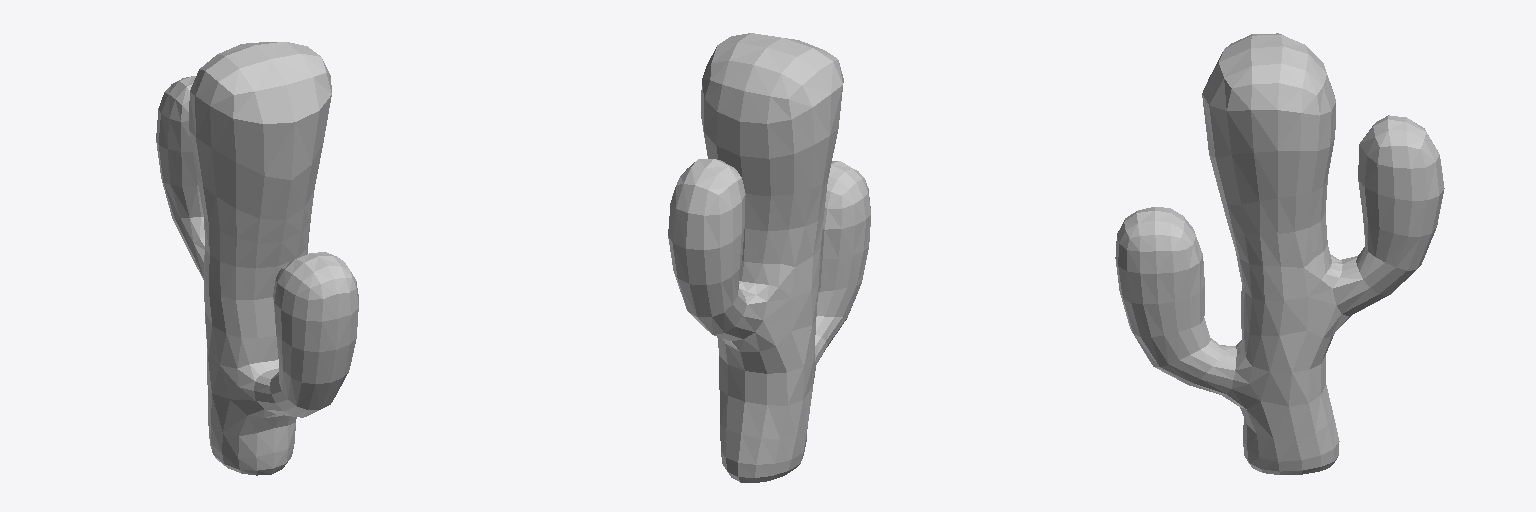
Rendered from cactus.obj.
3 views of the same model, side by side, from view 1: azimuth 30°, elevation 25°; view 2: azimuth 150°, elevation 25°; view 3: azimuth 270°, elevation 25° (orthographic).
Visible parts, largest first — view 1: cactus4; view 2: cactus4; view 3: cactus4.
Boxes of the visible parts, x1=… form: cactus4: x1=156, y1=42, x2=358, y2=475; cactus4: x1=668, y1=33, x2=870, y2=482; cactus4: x1=1115, y1=33, x2=1444, y2=474.
Bounding box in the file's own units: 1.61 × 5.22 × 3.72.